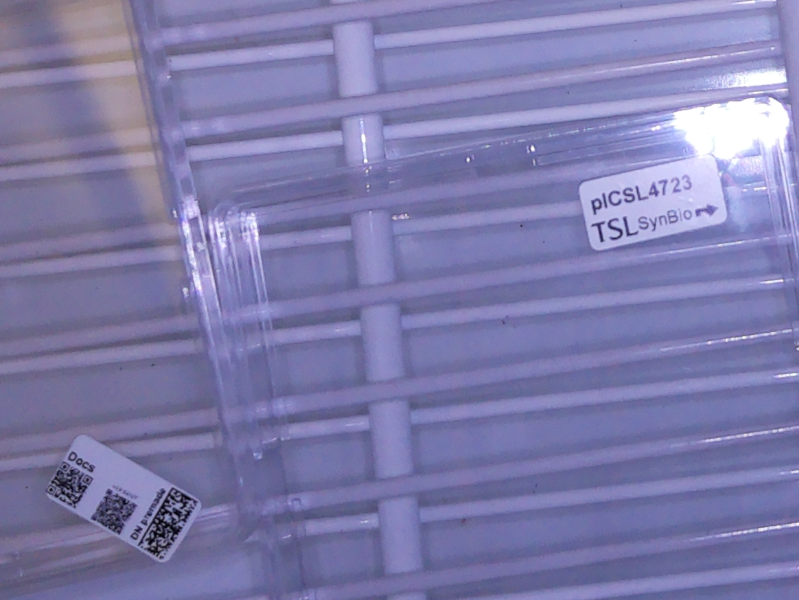plate: (206, 92, 799, 600), (1, 1, 261, 586)
